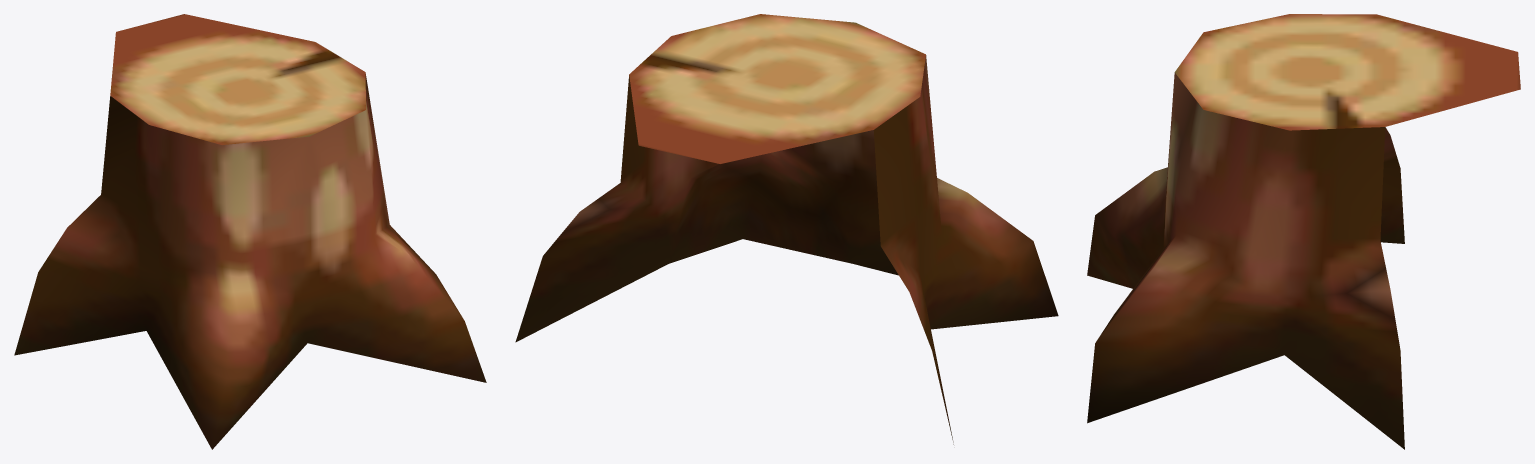
Rendered from fg_treeB_4_b.dae.
The picture shows the model from 3 angles, left to right: view 1: azimuth 30°, elevation 25°; view 2: azimuth 150°, elevation 25°; view 3: azimuth 270°, elevation 25°; orthographic projection. The views are drawn at different scales.
Visible parts, largest first — view 1: fg_treeB_4_b; view 2: fg_treeB_4_b; view 3: fg_treeB_4_b.
Part boxes in pixels (x1,y1,x2,y2): fg_treeB_4_b: (14, 14, 486, 449); fg_treeB_4_b: (515, 14, 1058, 444); fg_treeB_4_b: (1087, 14, 1520, 449).
Size of the model in its own units: 31.18 by 19.55 by 27.75.
1 material, 1 textured.
